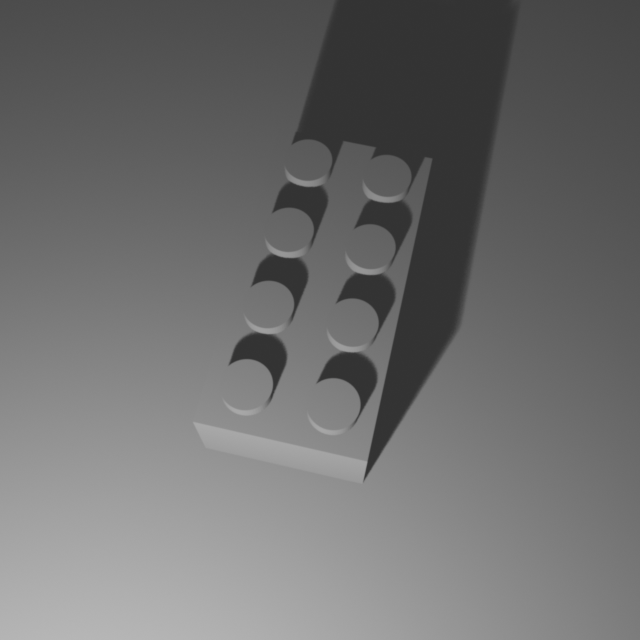lego_2x4: (191, 119, 434, 484)
